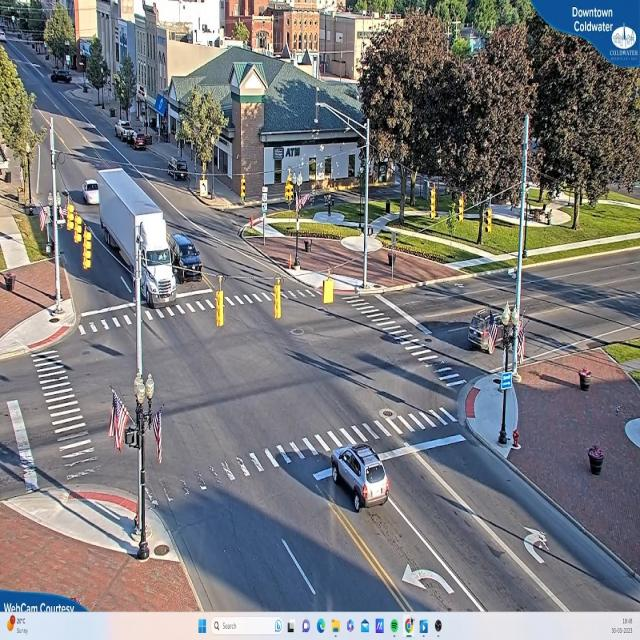car: (331, 445, 390, 512), (82, 182, 99, 206), (133, 134, 149, 150), (51, 70, 72, 82)
truck: (99, 168, 179, 309)
